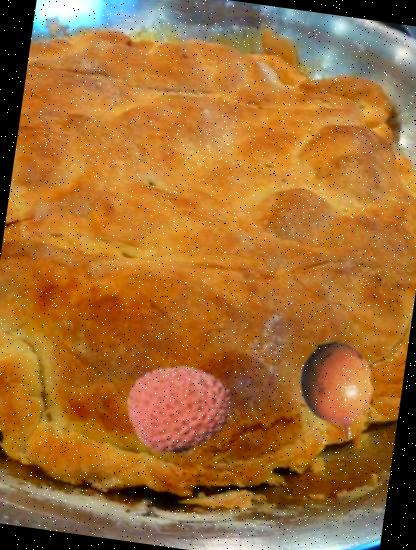Granadilla: (282, 336, 394, 447)
Lychee: (120, 348, 240, 468)
